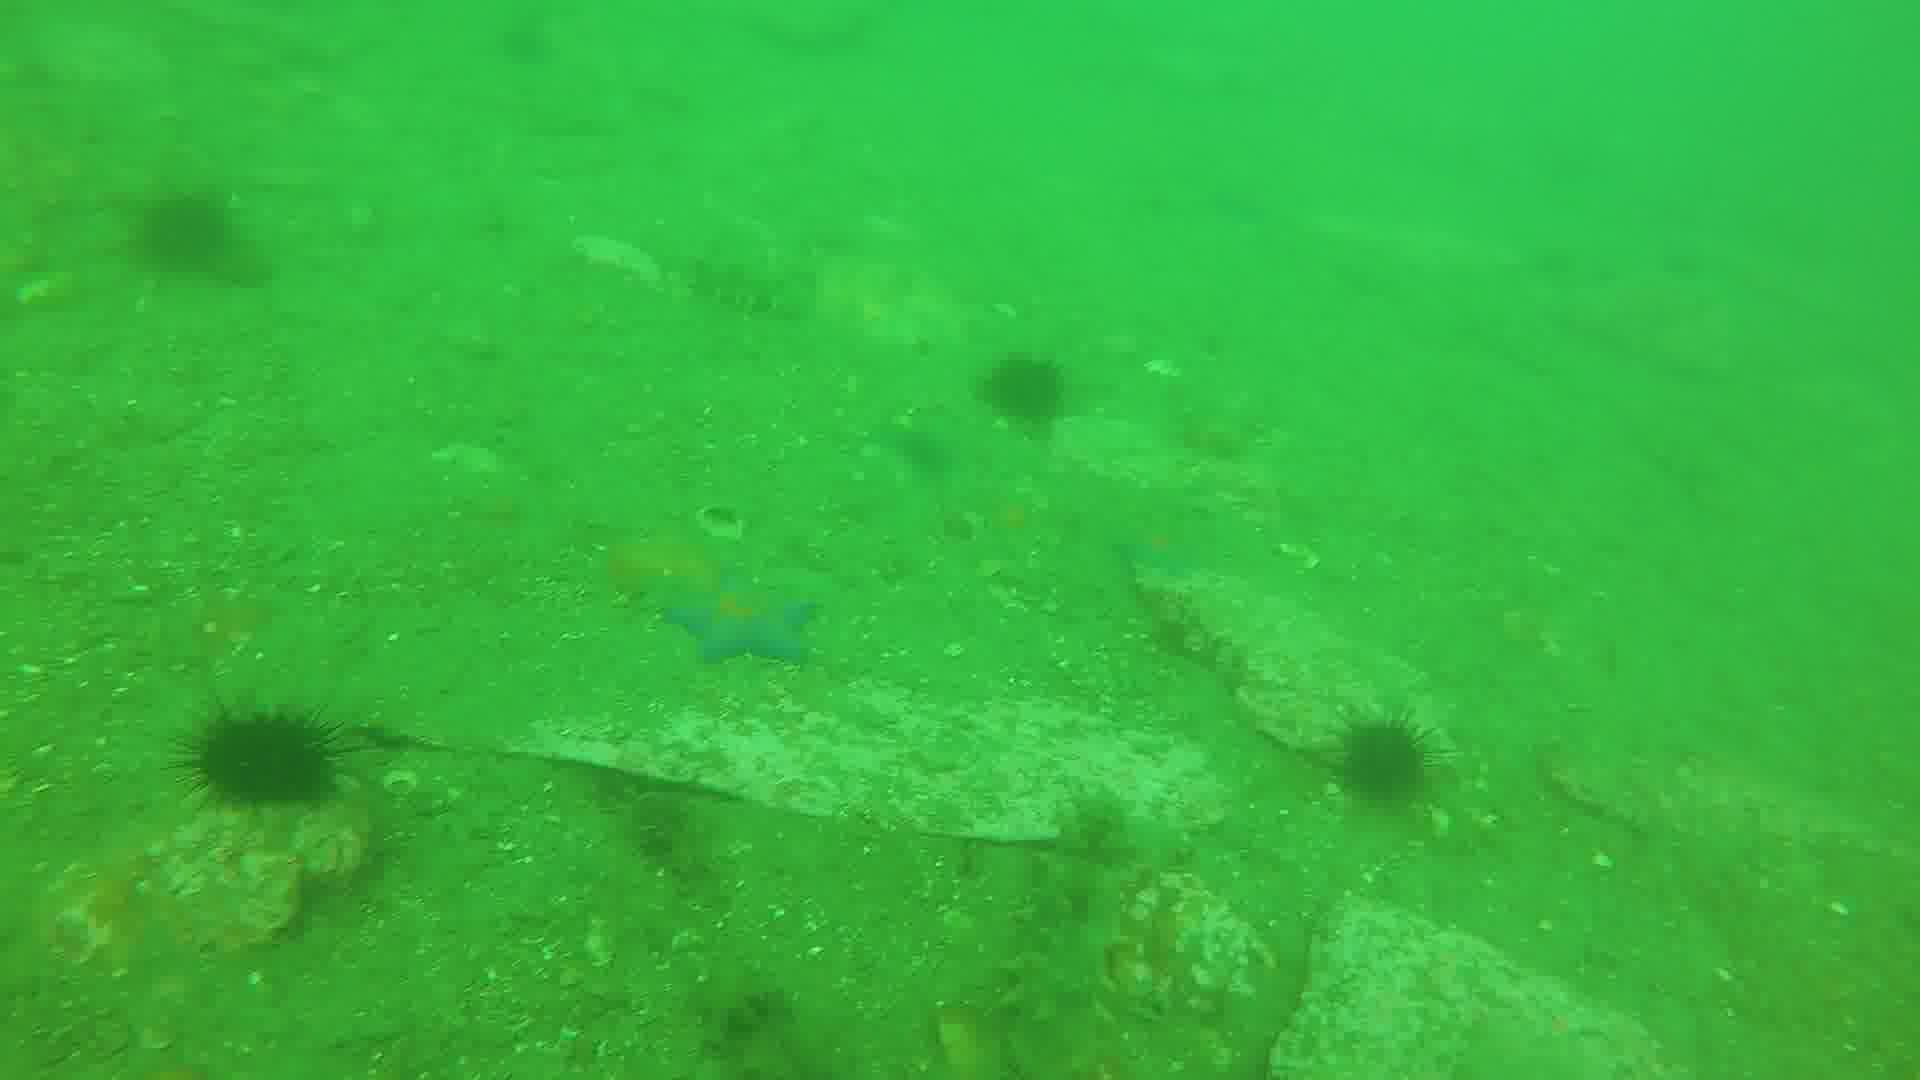echinus: (193, 705, 338, 800), (125, 194, 245, 274), (1349, 711, 1437, 796), (988, 351, 1076, 435)
holothurian: (1000, 793, 1138, 1080), (666, 235, 831, 320)
starfish: (673, 556, 816, 663)
